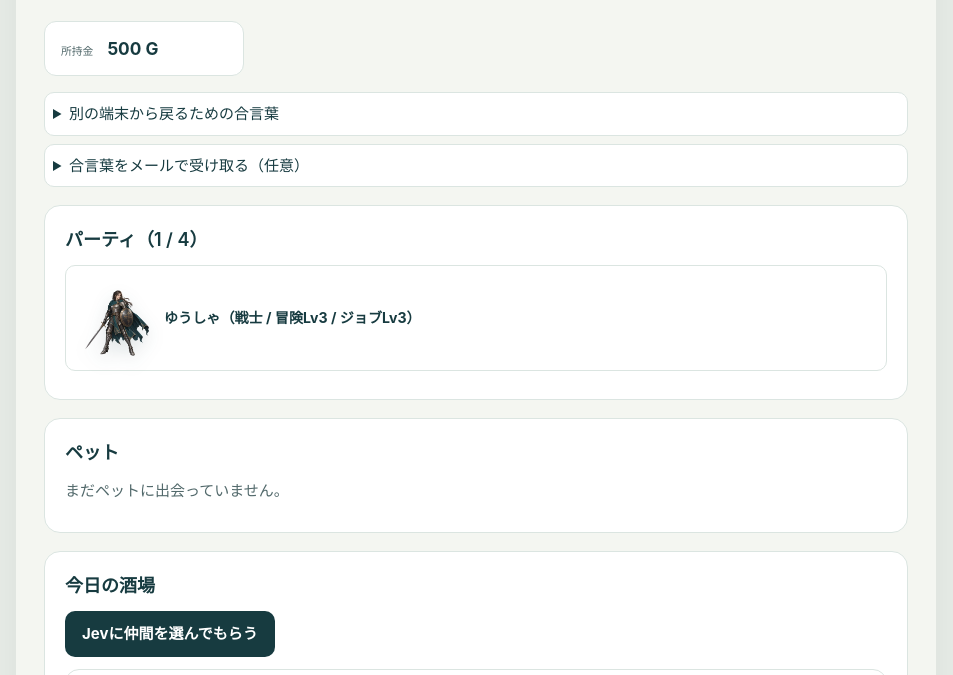
Test: 仲間画面（設計書 §5） › 条件を満たさない上級職は、条件つきで一覧に出るが押せない
The width and height of the screenshot is (953, 675).
Click the heading "ゆうしゃ（戦士 / 冒険Lv3 / ジョブLv3）": {"x": 252, "y": 318} x1=84 y1=280 x2=421 y2=356
(page scrolled)
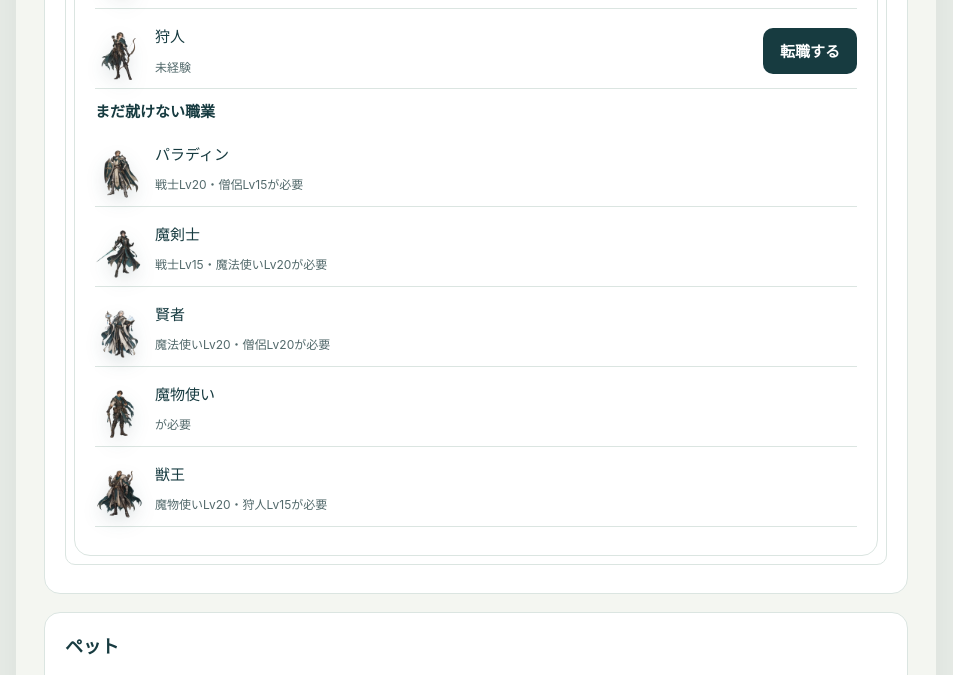
expect the list item "パラディン" shows "戦士Lv20・僧侶Lv15が必要": met, box x1=95 y1=132 x2=857 y2=207
expect the text "パラディン" is shown: met, box x1=155 y1=145 x2=229 y2=164
